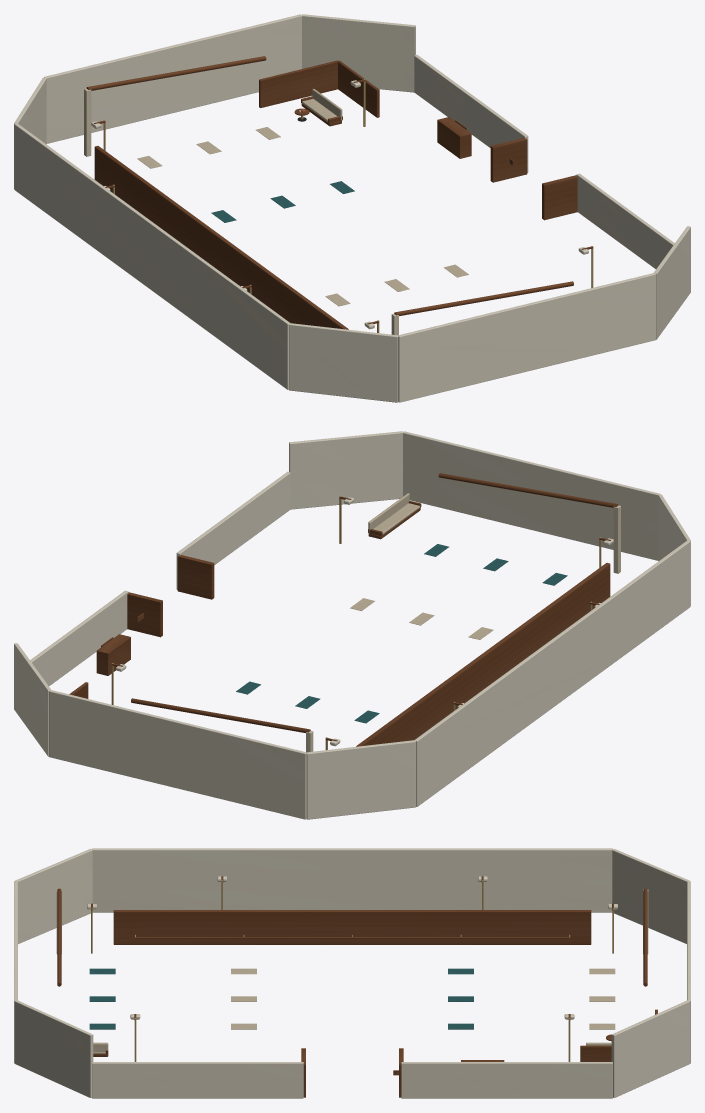
File: SOL_D08_directory_05_entry001.glb
The picture shows the model from 3 angles, top to bottom: view 1: azimuth 30°, elevation 25°; view 2: azimuth 150°, elevation 25°; view 3: azimuth 270°, elevation 25°; orthographic projection. The views are drawn at different scales.
Visible parts, largest first — view 1: D08_directory_05__studio_shell3, D08_directory_05__studio_shell5, D08_directory_05__studio_shell1, D08_directory_05__focus_wall, D08_directory_05__studio_shell4, D08_directory_05__studio_shell0, D08_directory_05__arrival_b, D08_directory_05__arrival_a, D08_directory_05__studio_shell6, D08_directory_05__quiet_recovery_back, D08_directory_05__threshold_pier-4.5, D08_directory_05__threshold_pier4.5 (+5 smaller); view 2: D08_directory_05__studio_shell3, D08_directory_05__studio_shell1, D08_directory_05__studio_shell5, D08_directory_05__focus_wall, D08_directory_05__studio_shell6, D08_directory_05__studio_shell2, D08_directory_05__arrival_a, D08_directory_05__arrival_b, D08_directory_05__studio_shell0, D08_directory_05__threshold_pier4.5, D08_directory_05__threshold_pier-4.5, D08_directory_05__studio_shell4 (+3 smaller); view 3: D08_directory_05__studio_shell3, D08_directory_05__focus_wall, D08_directory_05__arrival_a, D08_directory_05__arrival_b, D08_directory_05__studio_shell0, D08_directory_05__studio_shell6, D08_directory_05__studio_shell2, D08_directory_05__studio_shell4, D08_directory_05__continuous_barre, D08_directory_05__studio_shell1, D08_directory_05__studio_shell5, D08_directory_05__quiet_recovery_side (+2 smaller).
Boxes of the visible parts, x1=… form: D08_directory_05__studio_shell3: x1=14, y1=123, x2=290, y2=389; D08_directory_05__studio_shell5: x1=398, y1=273, x2=655, y2=402; D08_directory_05__studio_shell1: x1=44, y1=14, x2=301, y2=143; D08_directory_05__focus_wall: x1=94, y1=146, x2=348, y2=329; D08_directory_05__studio_shell4: x1=289, y1=323, x2=398, y2=402; D08_directory_05__studio_shell0: x1=302, y1=14, x2=415, y2=92; D08_directory_05__arrival_b: x1=414, y1=54, x2=528, y2=172; D08_directory_05__arrival_a: x1=576, y1=173, x2=674, y2=268; D08_directory_05__studio_shell6: x1=654, y1=226, x2=690, y2=339; D08_directory_05__quiet_recovery_back: x1=259, y1=60, x2=338, y2=107; D08_directory_05__threshold_pier-4.5: x1=490, y1=138, x2=527, y2=182; D08_directory_05__threshold_pier4.5: x1=542, y1=175, x2=577, y2=220; D08_directory_05__studio_shell3: x1=414, y1=540, x2=690, y2=806; D08_directory_05__studio_shell1: x1=49, y1=690, x2=306, y2=819; D08_directory_05__studio_shell5: x1=403, y1=431, x2=660, y2=560; D08_directory_05__focus_wall: x1=356, y1=563, x2=610, y2=746; D08_directory_05__studio_shell6: x1=289, y1=431, x2=402, y2=509; D08_directory_05__studio_shell2: x1=306, y1=740, x2=415, y2=819; D08_directory_05__arrival_a: x1=176, y1=471, x2=290, y2=589; D08_directory_05__arrival_b: x1=30, y1=590, x2=128, y2=685; D08_directory_05__studio_shell0: x1=14, y1=643, x2=50, y2=756; D08_directory_05__threshold_pier4.5: x1=177, y1=555, x2=214, y2=599; D08_directory_05__threshold_pier-4.5: x1=127, y1=592, x2=162, y2=637; D08_directory_05__studio_shell4: x1=658, y1=494, x2=690, y2=605; D08_directory_05__studio_shell3: x1=92, y1=848, x2=612, y2=912; D08_directory_05__focus_wall: x1=113, y1=910, x2=591, y2=944; D08_directory_05__arrival_a: x1=92, y1=1062, x2=303, y2=1098; D08_directory_05__arrival_b: x1=401, y1=1062, x2=612, y2=1098; D08_directory_05__studio_shell0: x1=611, y1=1000, x2=690, y2=1097; D08_directory_05__studio_shell6: x1=14, y1=1000, x2=93, y2=1097; D08_directory_05__studio_shell2: x1=612, y1=849, x2=689, y2=943; D08_directory_05__studio_shell4: x1=15, y1=849, x2=92, y2=943; D08_directory_05__continuous_barre: x1=135, y1=937, x2=569, y2=938; D08_directory_05__studio_shell1: x1=687, y1=881, x2=690, y2=1063; D08_directory_05__studio_shell5: x1=14, y1=881, x2=17, y2=1063; D08_directory_05__quiet_recovery_side: x1=580, y1=1045, x2=611, y2=1061.
Size of the model in its own units: 40.86 by 6.6 by 62.36.
8 materials, 8 textured.
